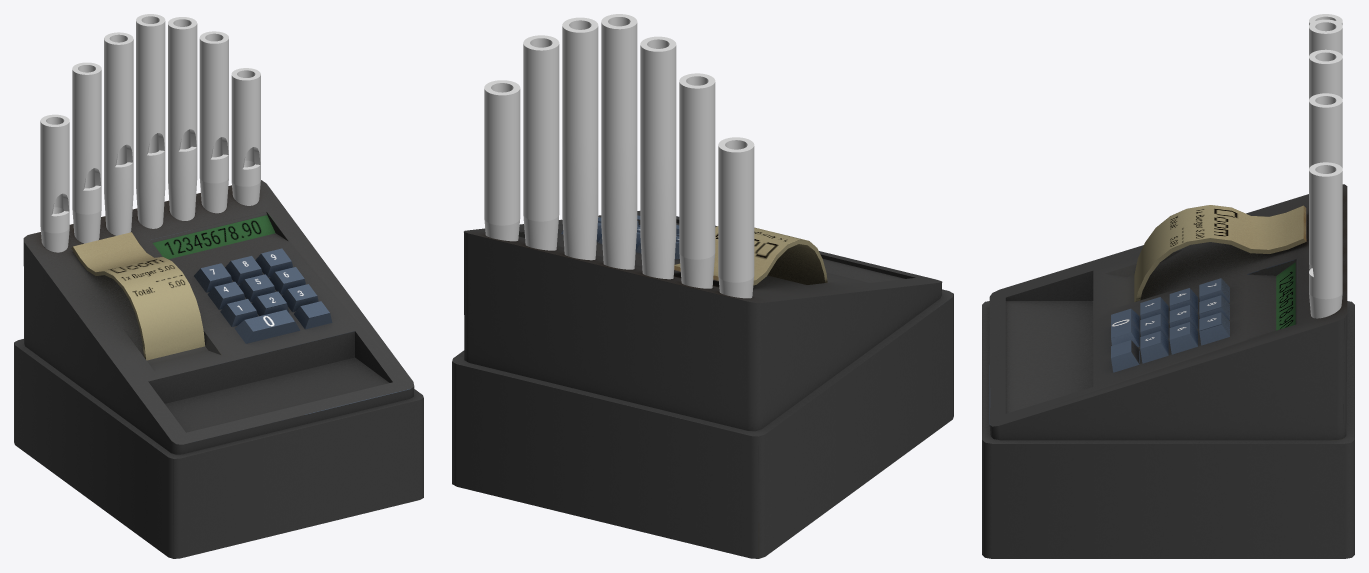
The model's file is cash_register_organ.fbx.
3 renders of one model, left to right at view 1: azimuth 30°, elevation 25°; view 2: azimuth 150°, elevation 25°; view 3: azimuth 270°, elevation 25°, orthographic. The views are drawn at different scales.
Visible parts, largest first — view 1: Cube.024, Cylinder.014, Cylinder.010, Cylinder.013, Cylinder.009, Cylinder.012, Cylinder.011, Cylinder.008; view 2: Cube.024, Cylinder.014, Cylinder.013, Cylinder.010, Cylinder.012, Cylinder.009, Cylinder.011, Cylinder.008; view 3: Cube.024, Cylinder.008, Cylinder.009, Cylinder.010, Cylinder.014.
Part boxes in pixels (x1,y1,x2,y2): Cube.024: (14,180,423,558); Cylinder.014: (136,14,165,228); Cylinder.010: (168,17,197,220); Cylinder.013: (104,32,133,235); Cylinder.009: (199,31,228,213); Cylinder.012: (72,62,101,243); Cylinder.011: (40,114,69,252); Cylinder.008: (231,68,260,205); Cube.024: (452,211,953,558); Cylinder.014: (601,14,637,269); Cylinder.013: (640,36,676,279); Cylinder.010: (562,17,598,260); Cylinder.012: (679,73,715,288); Cylinder.009: (523,35,559,250); Cylinder.011: (718,137,754,298); Cylinder.008: (484,80,520,241); Cube.024: (982,184,1354,558); Cylinder.008: (1309,162,1342,318); Cylinder.009: (1309,93,1342,269); Cylinder.010: (1309,49,1342,99); Cylinder.014: (1309,19,1342,55).
Bounding box in the file's own units: 400 × 600 × 440.
